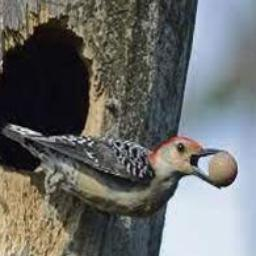Woodpecker: (1, 121, 228, 218)
